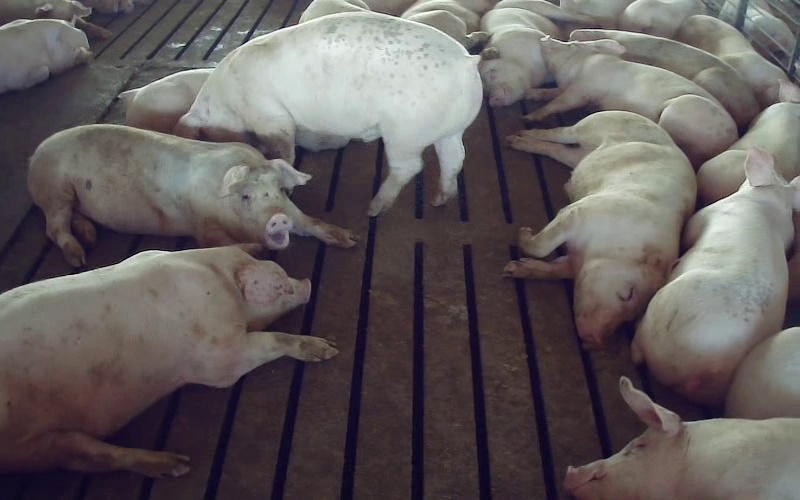pig: (0, 245, 336, 476), (176, 11, 480, 215), (28, 124, 356, 266), (503, 111, 695, 348), (632, 147, 799, 404), (564, 376, 799, 499), (526, 37, 737, 167), (570, 29, 759, 127), (697, 79, 799, 204), (479, 0, 592, 106), (677, 15, 787, 107)
